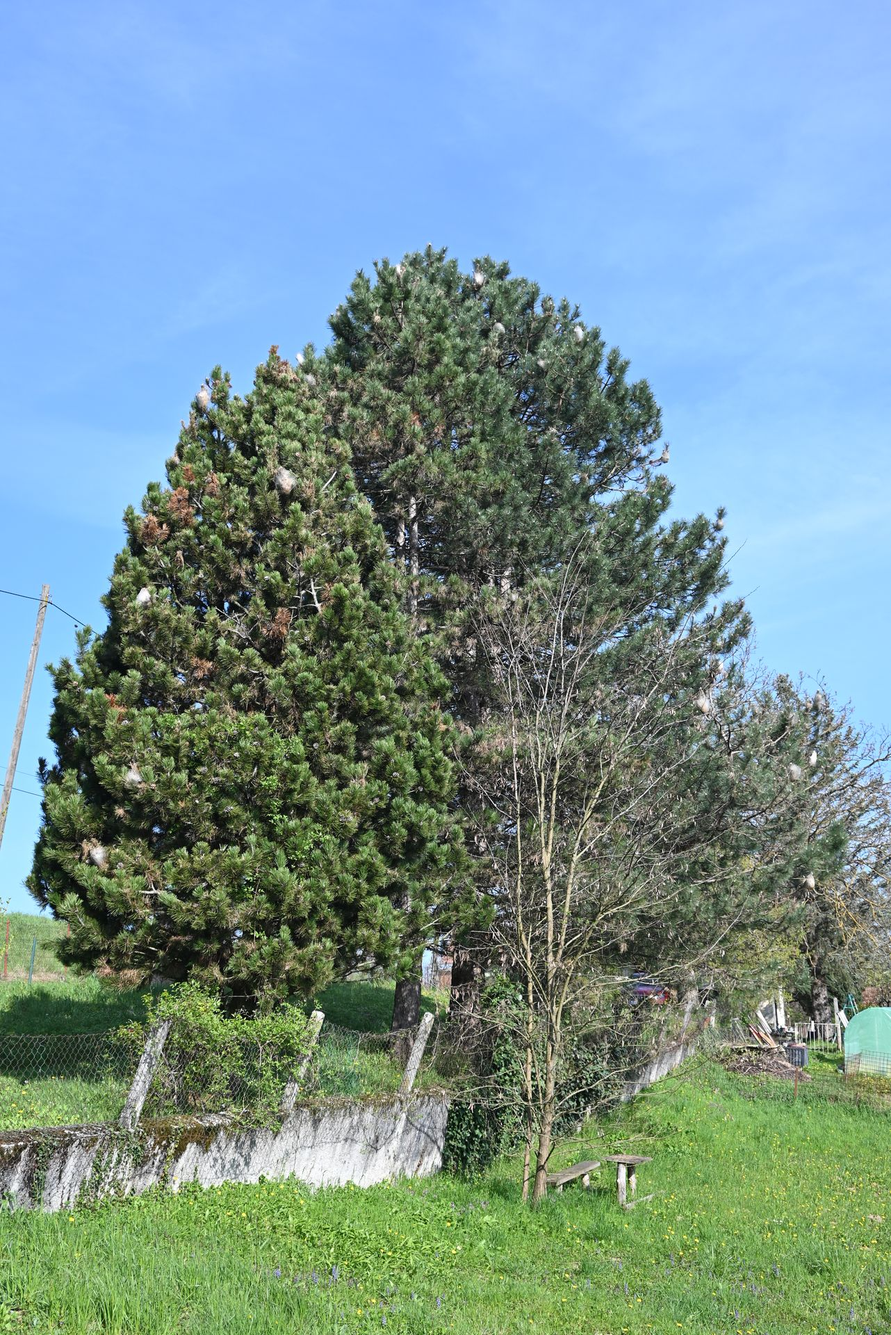thaumatopoea pityocampa jajno gnijezdo: (87, 844, 114, 873), (271, 470, 301, 495), (119, 766, 147, 791), (191, 384, 213, 411), (367, 302, 386, 333), (465, 265, 486, 291), (132, 582, 149, 612), (785, 763, 805, 785), (389, 257, 404, 282), (802, 873, 822, 891), (695, 693, 710, 717), (655, 445, 670, 468), (709, 512, 727, 531), (291, 350, 305, 373), (570, 323, 587, 341), (489, 318, 506, 335), (803, 747, 817, 766), (536, 355, 545, 372)
